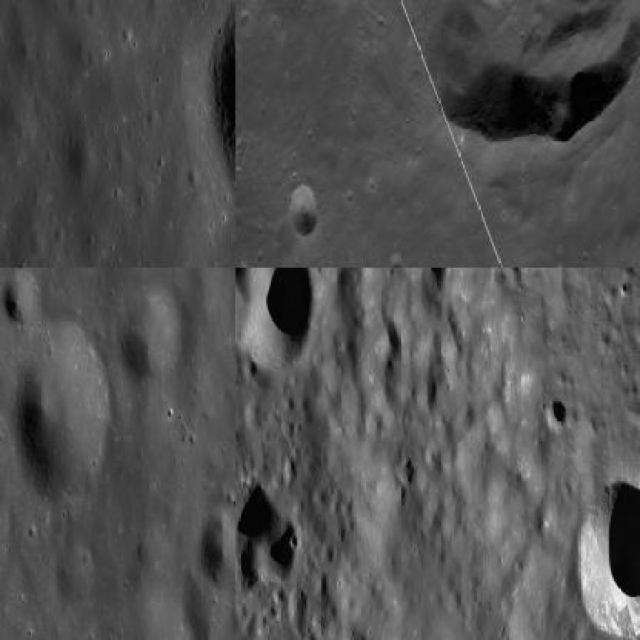crater: (380, 0, 638, 145), (8, 319, 108, 506), (576, 477, 638, 638), (116, 289, 186, 382), (249, 268, 314, 368), (260, 518, 300, 584), (236, 478, 276, 538), (235, 514, 257, 597), (291, 185, 318, 237), (545, 398, 569, 432)
